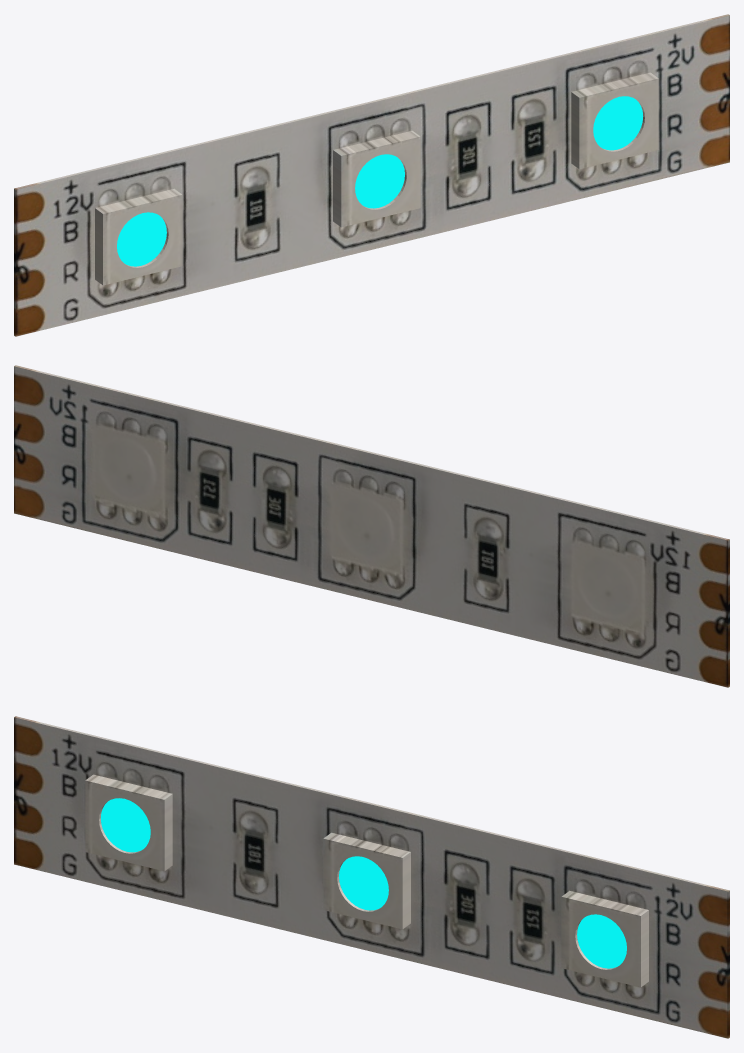
File: LED.glb
3 renders of one model, top to bottom at view 1: azimuth 30°, elevation 25°; view 2: azimuth 150°, elevation 25°; view 3: azimuth 330°, elevation 25°, orthographic.
Visible parts, largest first — view 1: LED Streifen; view 2: LED Streifen; view 3: LED Streifen.
Boxes of the visible parts, x1,y1,x2,y2 form: LED Streifen: [14, 14, 729, 336]; LED Streifen: [14, 365, 729, 687]; LED Streifen: [14, 716, 729, 1038].
Size of the model in its own units: 1.11 by 0.2177 by 0.0261.
2 materials, 1 textured.
